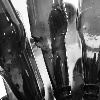beer: (26, 1, 76, 100)
